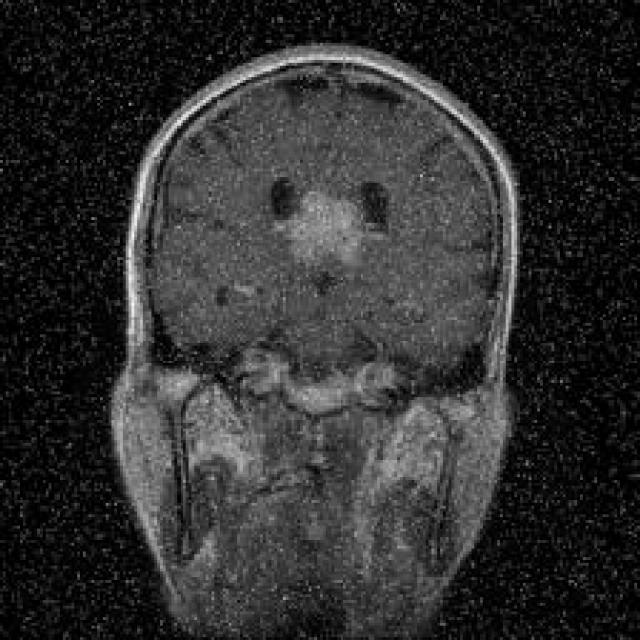meningioma_tumor: (280, 174, 386, 290)
